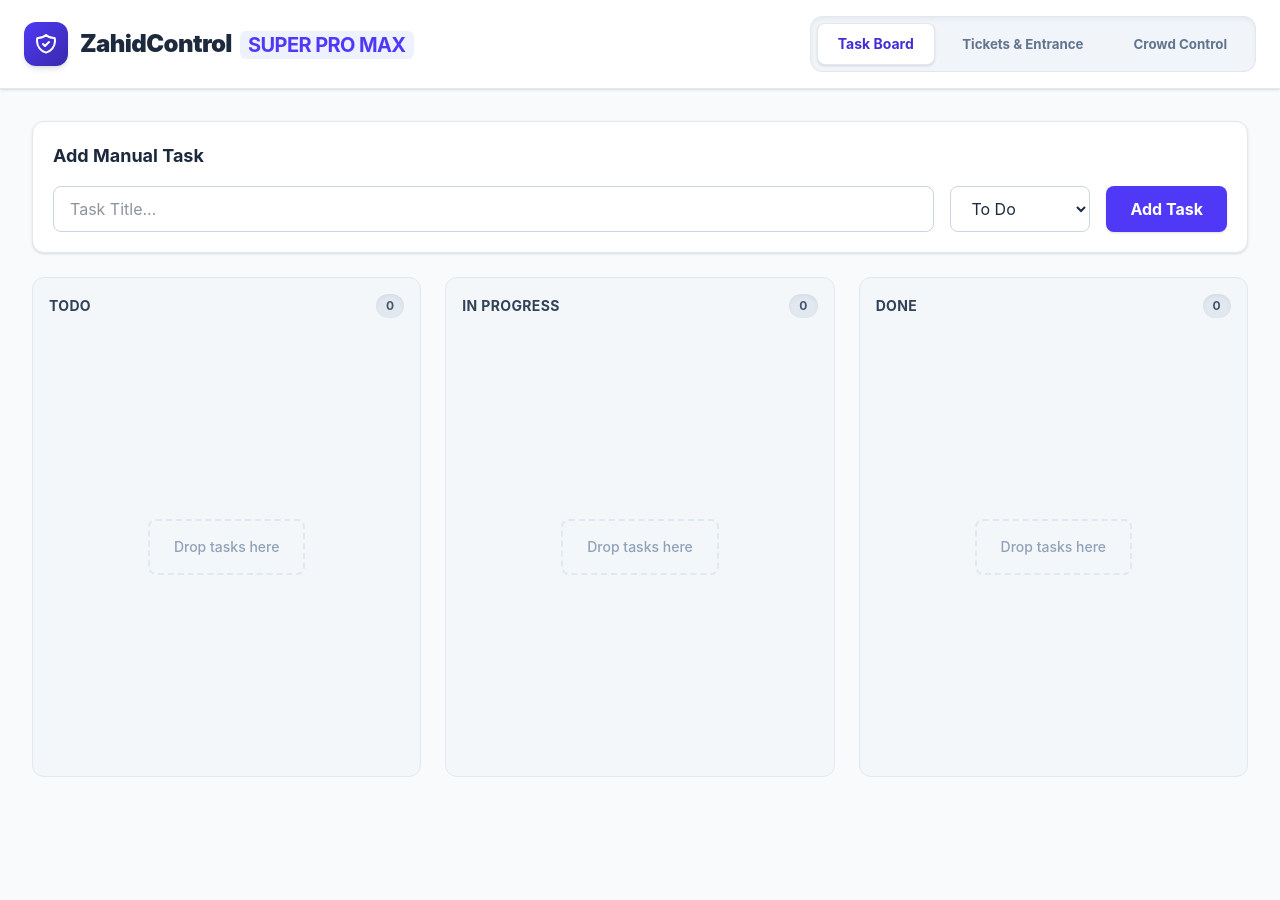
Test: App Component › allows adding a new area
Click the button "Crowd Control". click: click(1180, 44)
box: [1114,24,1246,64]
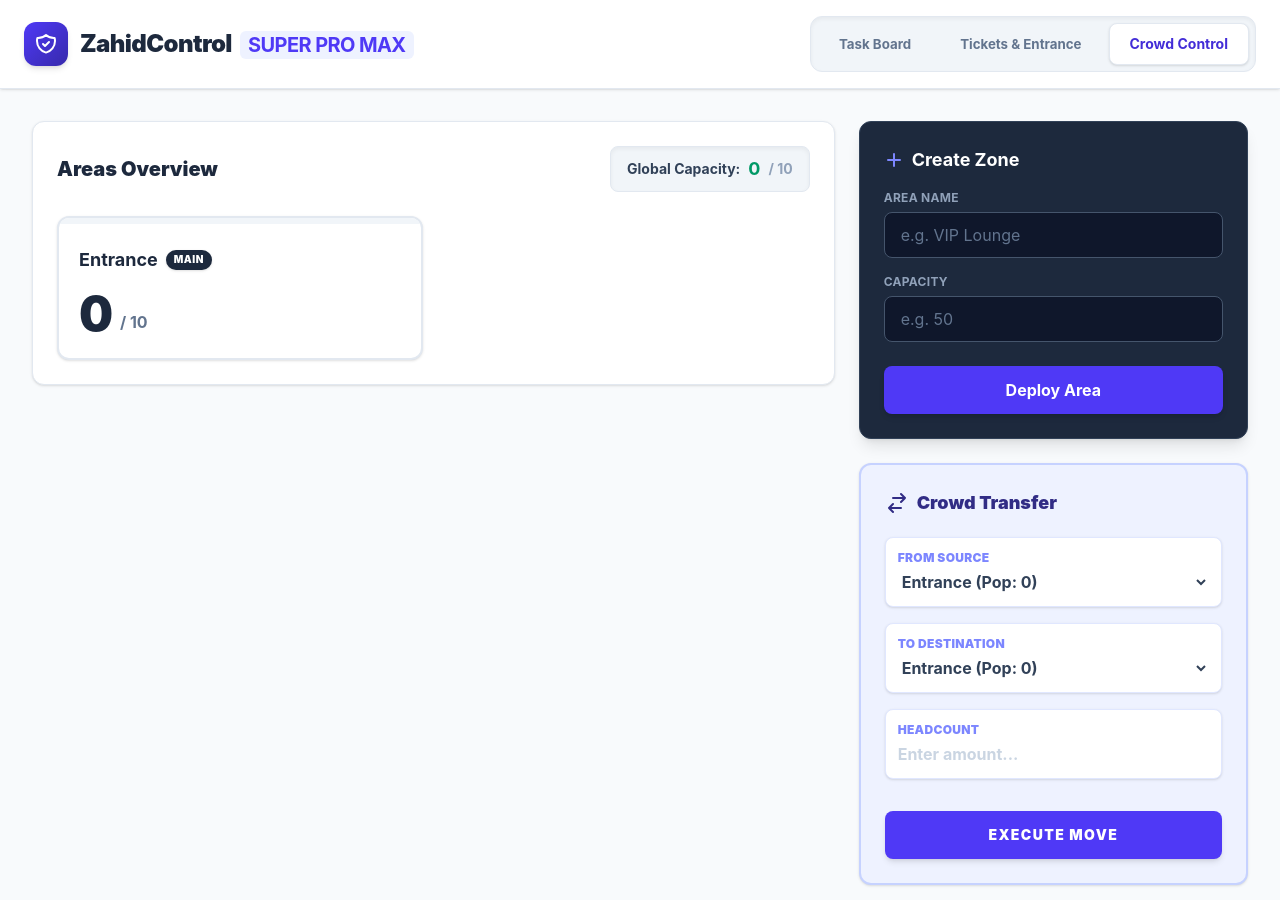
Type "Stage Area" into the field with placeholder "e.g. VIP Lounge". click: (1053, 235)
box: [884,212,1223,258]
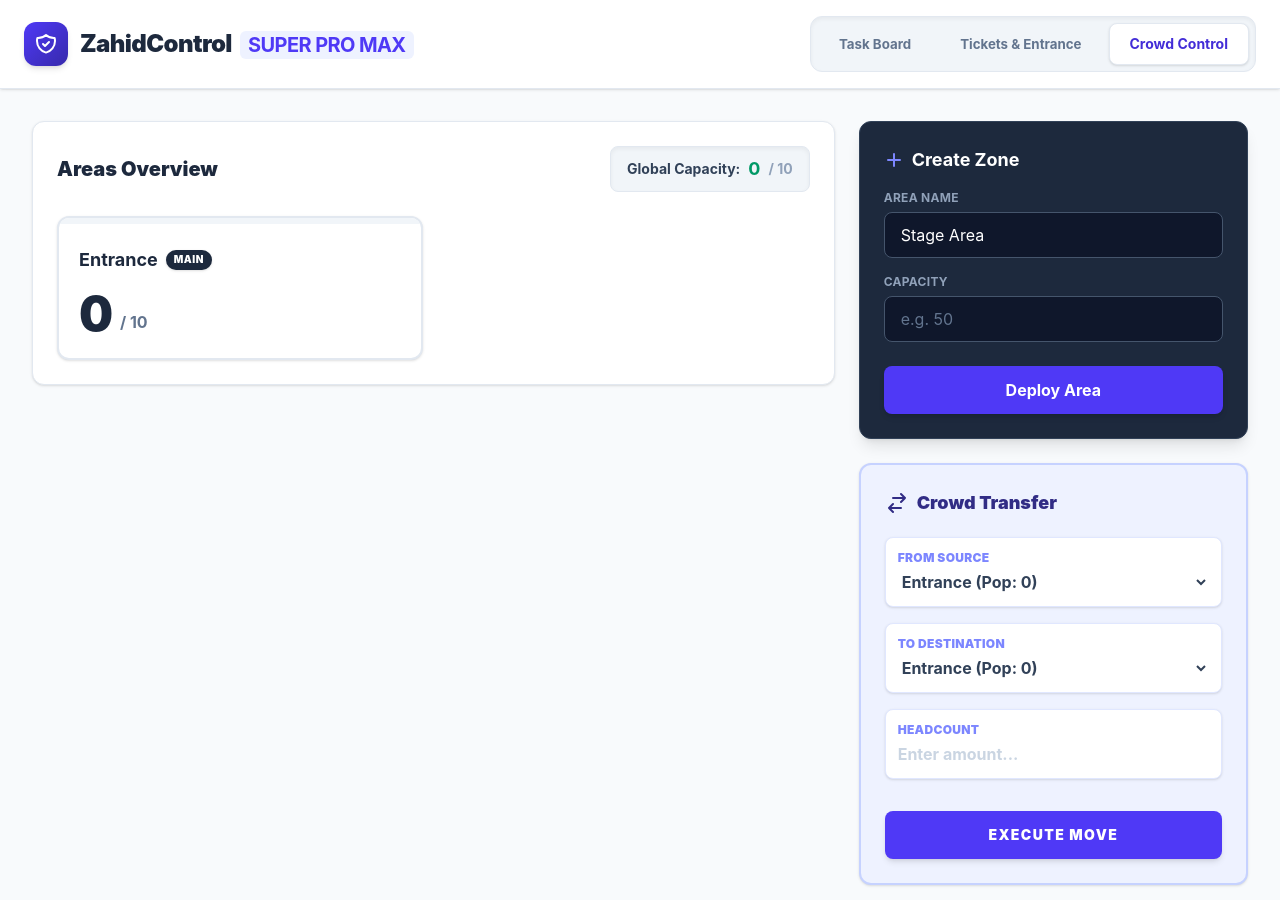
Type "100" into the number field with placeholder "e.g. 50". click: (1053, 319)
box: [884,296,1223,342]
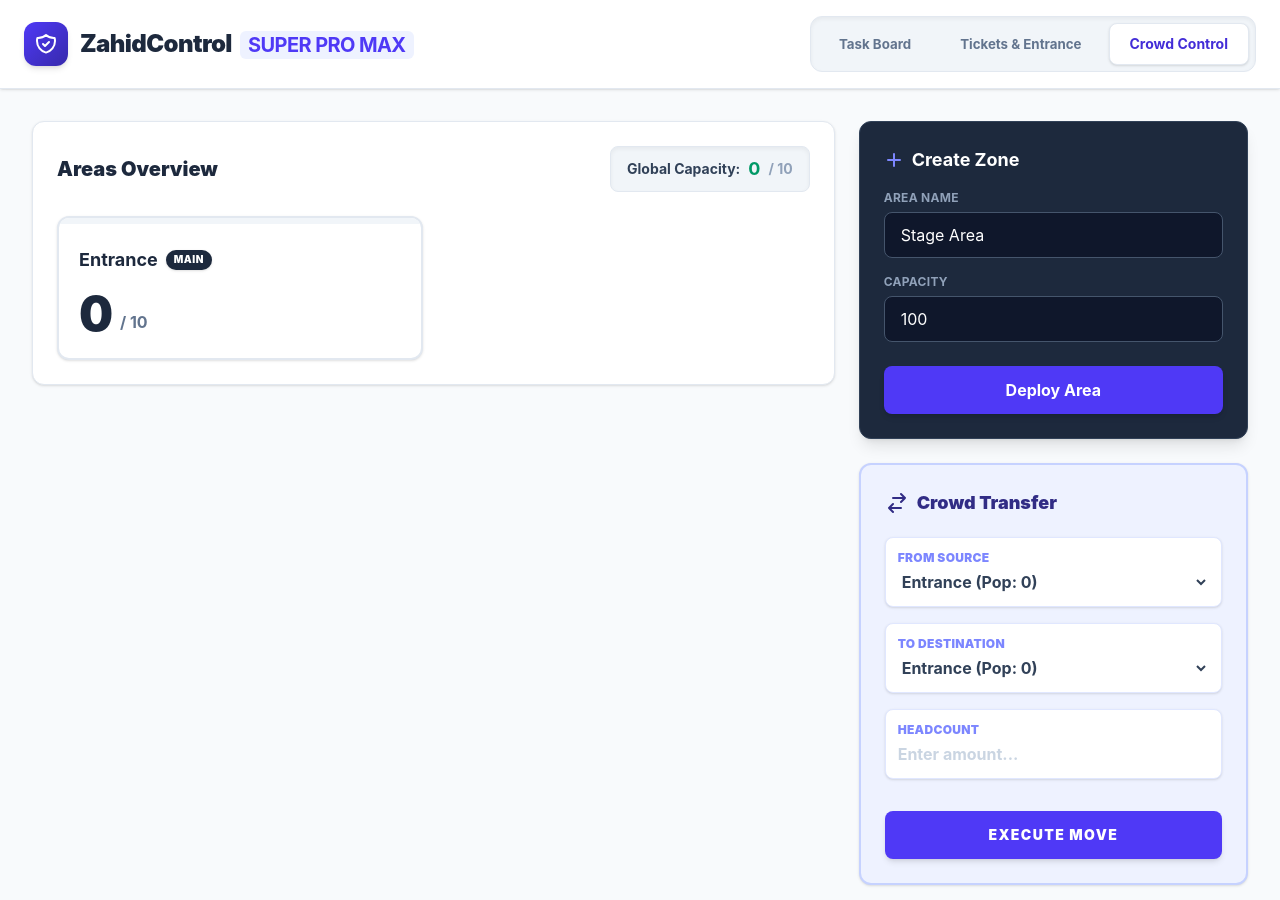
Click the button "Deploy Area". click: click(1053, 390)
box: [884,366,1223,414]
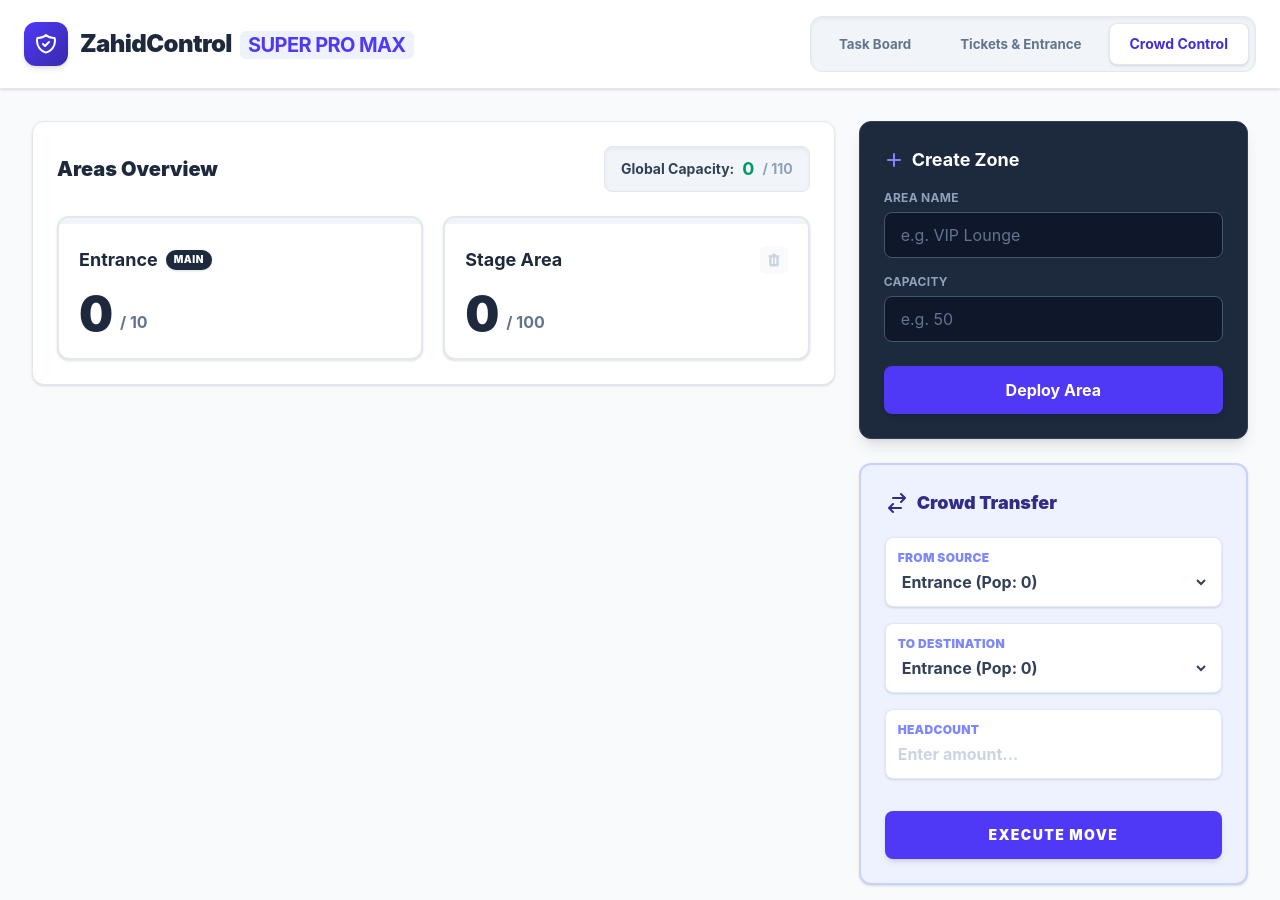
Now the heading "Stage Area" is shown, box [465,246,562,274]
Now the text "/ 100" is shown, box [506,310,545,334]
Now the field with placeholder "e.g. VIP Lounge" is empty, box [884,212,1223,258]
